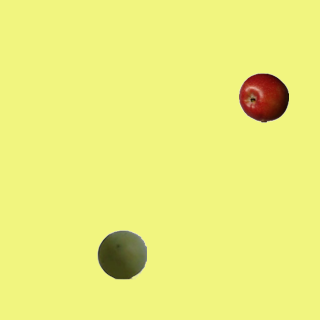Apple Braeburn: (238, 72, 288, 122)
Grape White 4: (96, 229, 146, 279)
